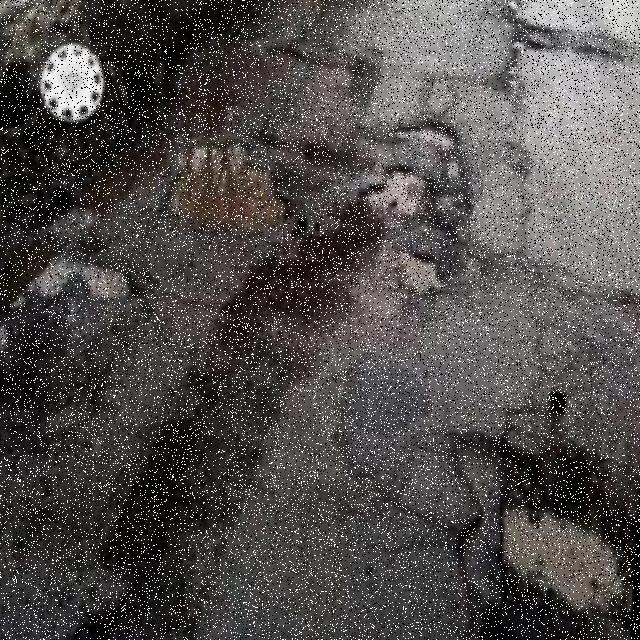pothole: (479, 391, 639, 640), (159, 141, 294, 243), (28, 261, 140, 300), (367, 169, 426, 218), (397, 251, 449, 296), (396, 121, 461, 153), (449, 163, 462, 178), (441, 198, 452, 208)
